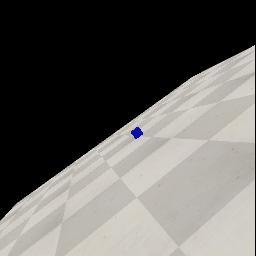box: (131, 127, 143, 139)
